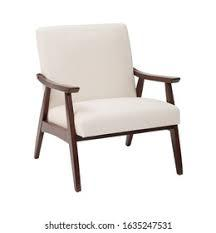chair: (24, 13, 191, 197)
